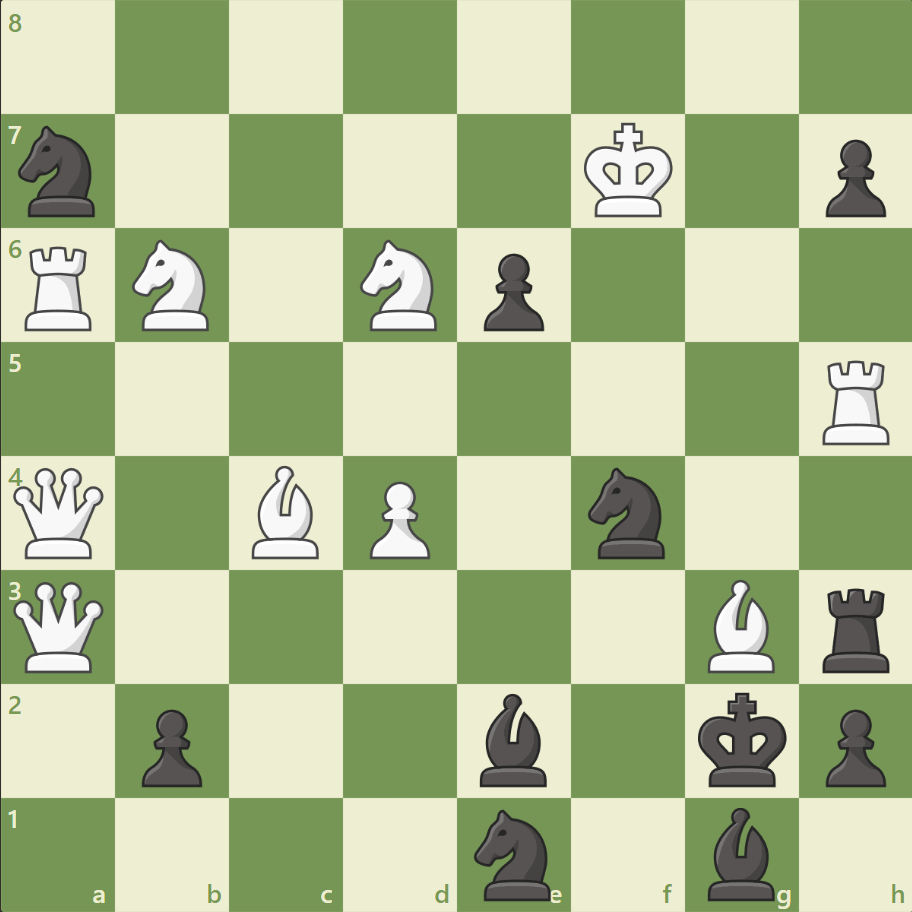B: (244, 460, 328, 563), (698, 574, 782, 676)
K: (579, 117, 679, 225)
N: (124, 234, 222, 337), (351, 234, 449, 337)
P: (361, 473, 435, 564)
Q: (10, 576, 109, 676), (10, 463, 109, 562)
R: (19, 239, 102, 336), (814, 352, 897, 449)
b: (471, 687, 555, 790), (698, 801, 782, 904)
k: (692, 685, 792, 793)
n: (579, 461, 676, 564), (11, 121, 108, 223), (465, 802, 562, 904)
p: (474, 246, 549, 337), (133, 700, 208, 791), (815, 132, 889, 223), (815, 700, 889, 791)
r: (814, 579, 897, 676)
